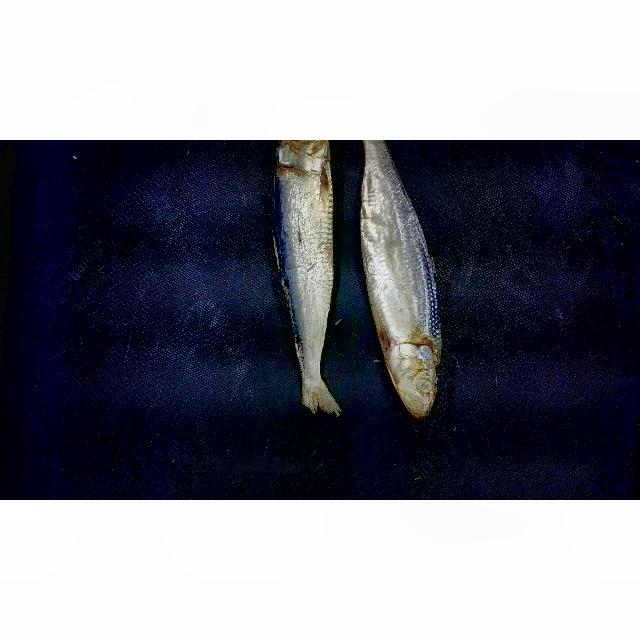Grade_A_Body: (354, 190, 449, 319), (268, 173, 347, 287)
Grade_A_Head: (373, 329, 457, 422)
Grade_A_Tail: (275, 290, 351, 421), (348, 142, 425, 187)
